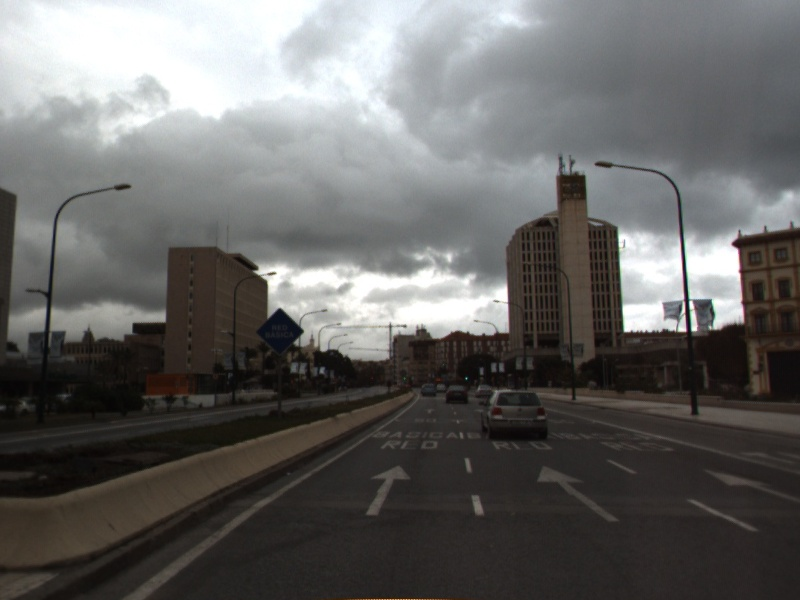STRAIGHT: (533, 462, 623, 524), (699, 466, 800, 503), (363, 462, 414, 518)
